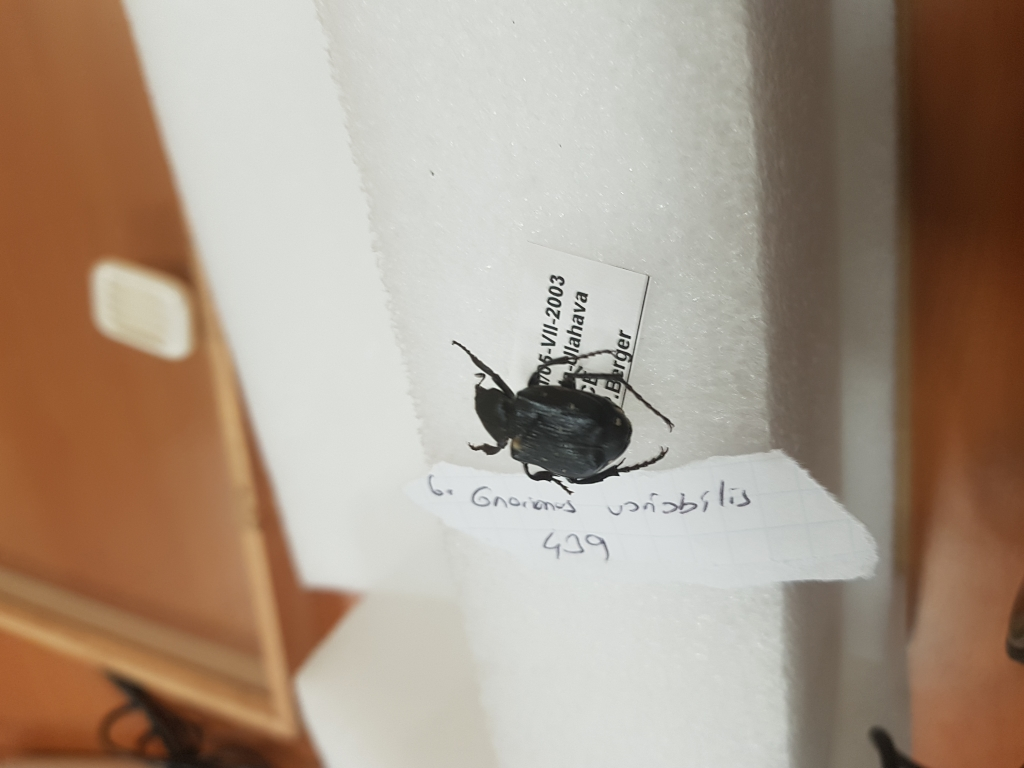Gnorimus_variabilis: (448, 337, 679, 499)
